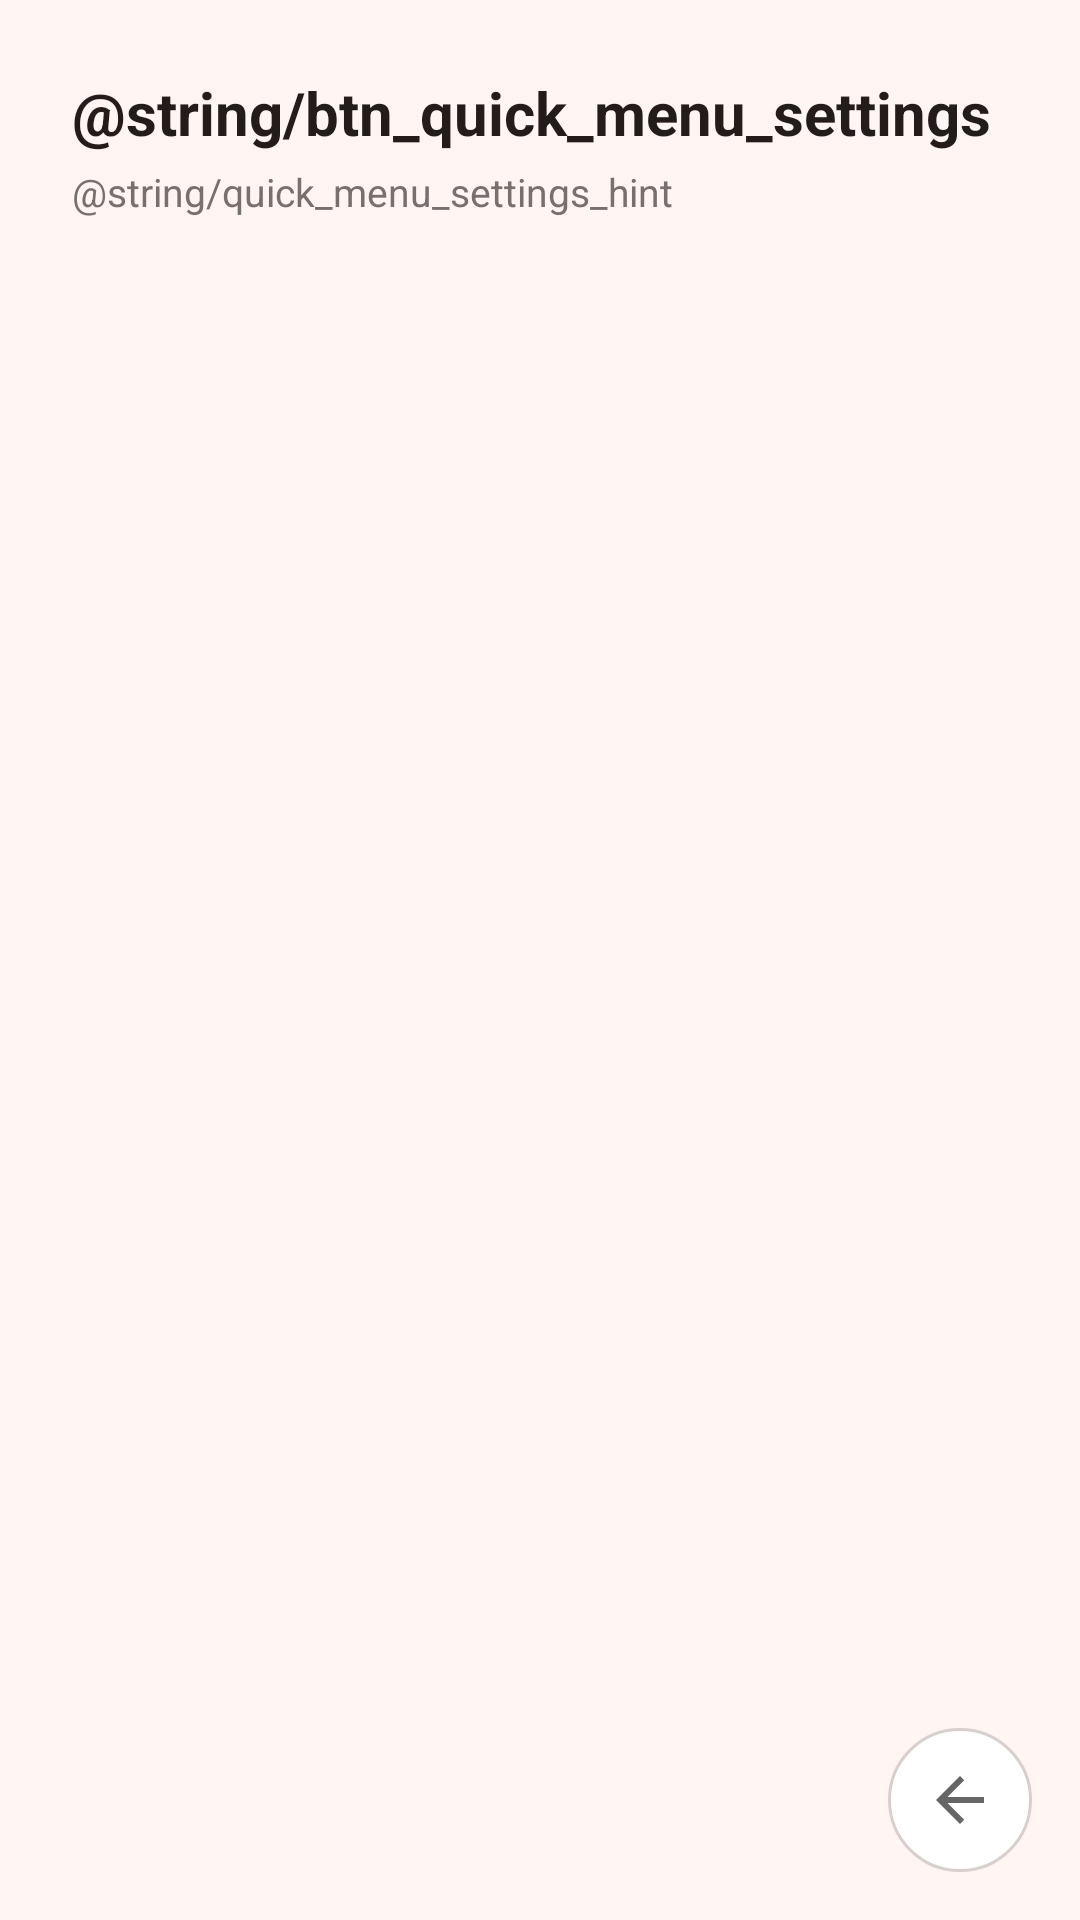

Where to tap for icons on this 1080px×1920px app screen, as (x,y):
Zurück: (960,1800)
